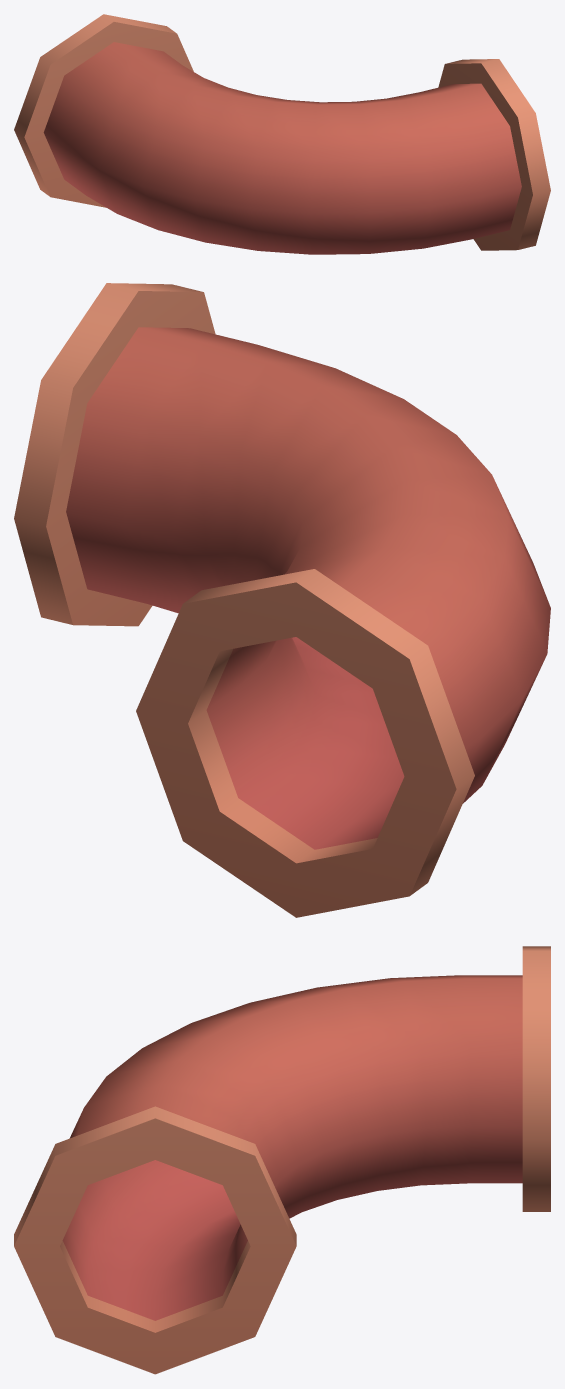
File: pipe-large-bend.obj
3 renders of one model, top to bottom at view 1: azimuth 30°, elevation 25°; view 2: azimuth 150°, elevation 25°; view 3: azimuth 270°, elevation 25°, orthographic. The views are drawn at different scales.
Parts seen in each view (by area): view 1: pipe-large-bend; view 2: pipe-large-bend; view 3: pipe-large-bend.
Boxes of the visible parts, <box> form: pipe-large-bend: <box>14,14,550,254</box>; pipe-large-bend: <box>14,283,550,917</box>; pipe-large-bend: <box>14,946,550,1374</box>.
Size of the model in its own units: 1.9 by 1 by 1.9.
